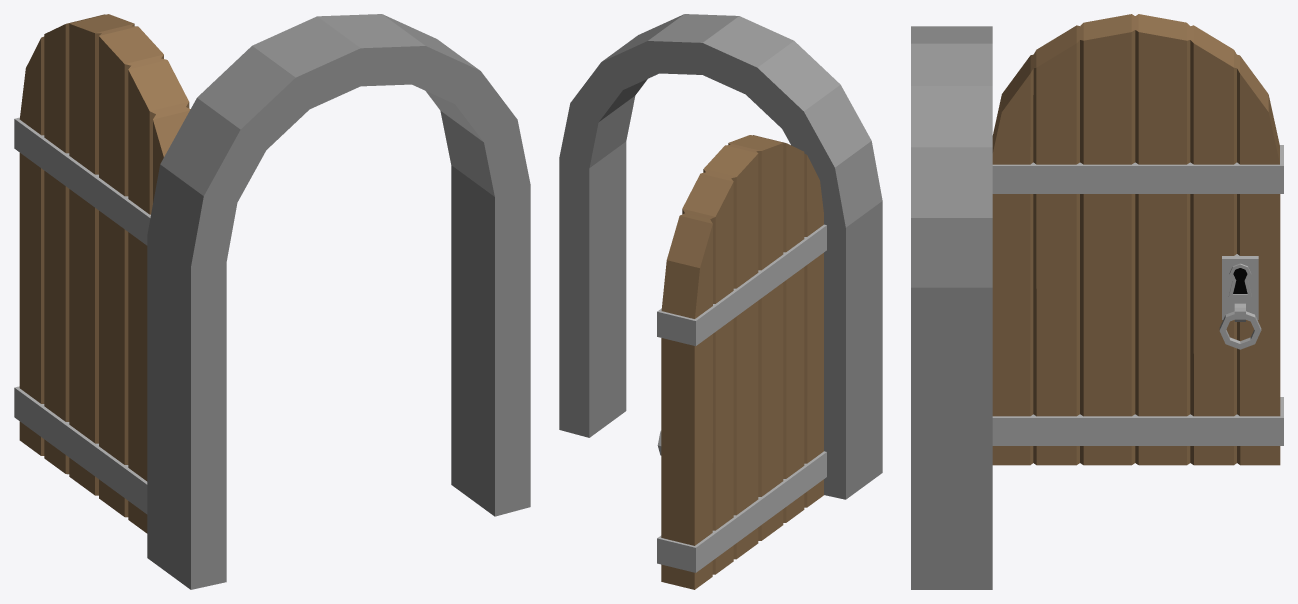
Rendered from OpenDoor.fbx.
3 views of the same model, side by side, from view 1: azimuth 30°, elevation 25°; view 2: azimuth 150°, elevation 25°; view 3: azimuth 270°, elevation 25° (orthographic). The views are drawn at different scales.
Visible parts, largest first — view 1: Door; view 2: Door; view 3: Door.
Part boxes in pixels (left/top/right/bottom): Door: left=14, top=14, right=530, bottom=589; Door: left=559, top=14, right=882, bottom=589; Door: left=911, top=14, right=1283, bottom=589.
Bounding box in the file's own units: 127 × 179 × 129.
